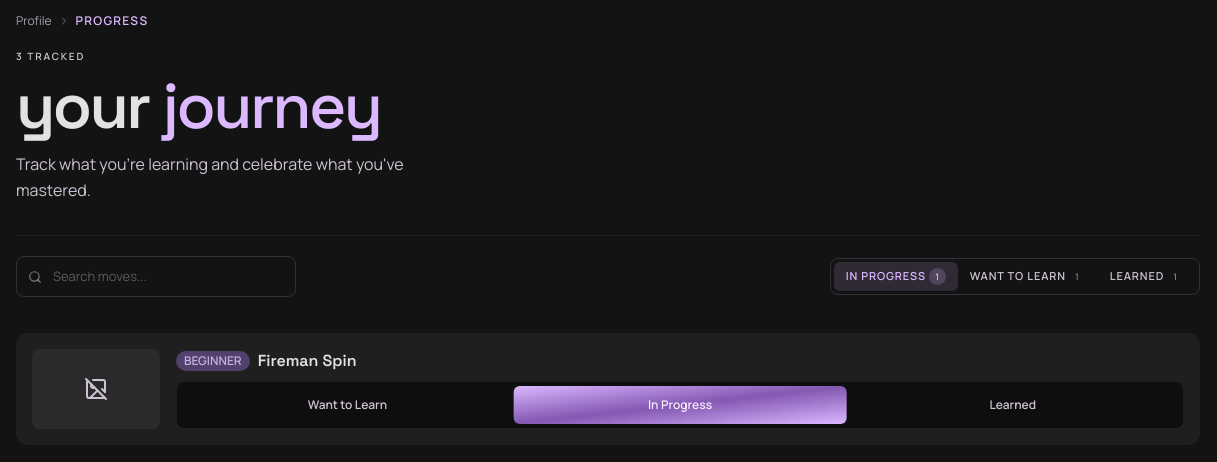
Test: ProgressTracker › shows Want to Learn moves after clicking that tab
Click the tab "Want to Learn 1".
click(1028, 277)  # box [958, 262, 1098, 291]
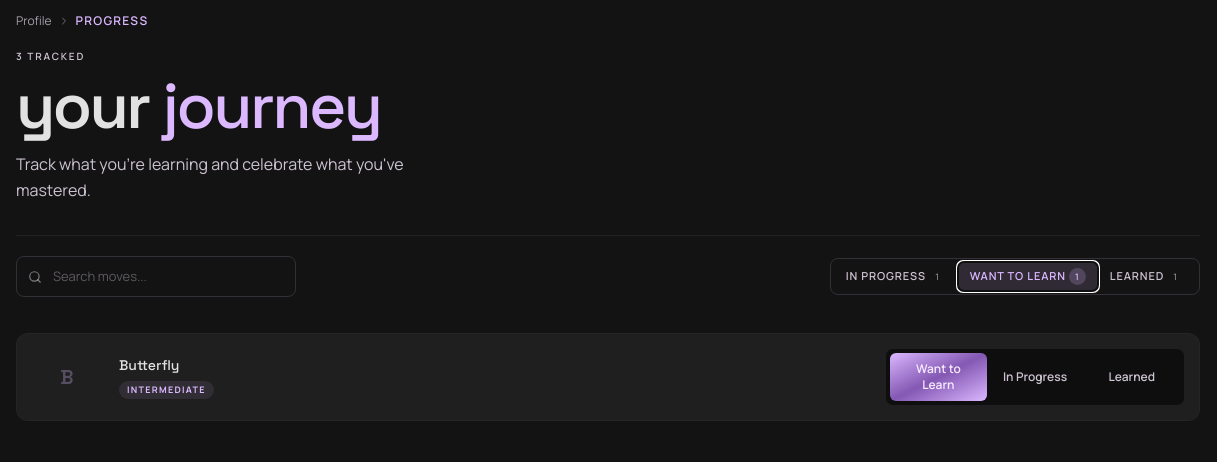
expect the text "Butterfly" is shown: met, box [119, 356, 179, 374]
expect the heading "Fireman Spin" is gone: met
